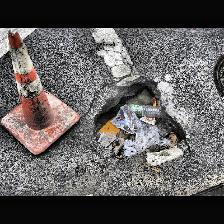pothole: (92, 78, 186, 158)
